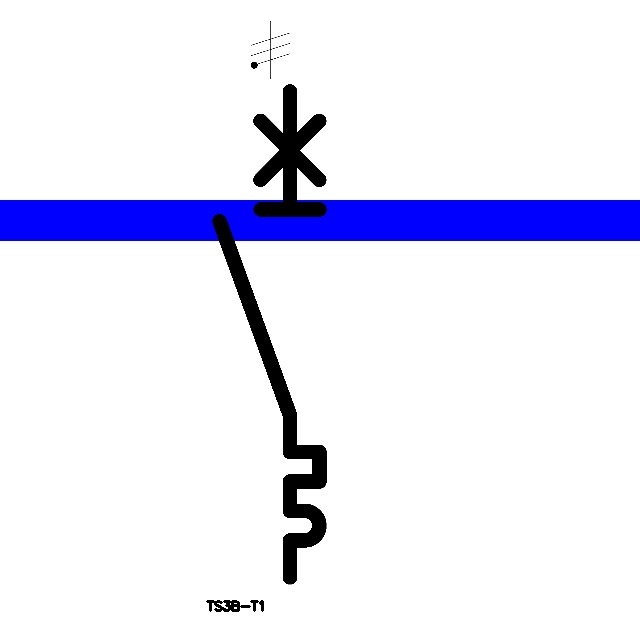interruptor_termomagnetico: (207, 78, 332, 589)
